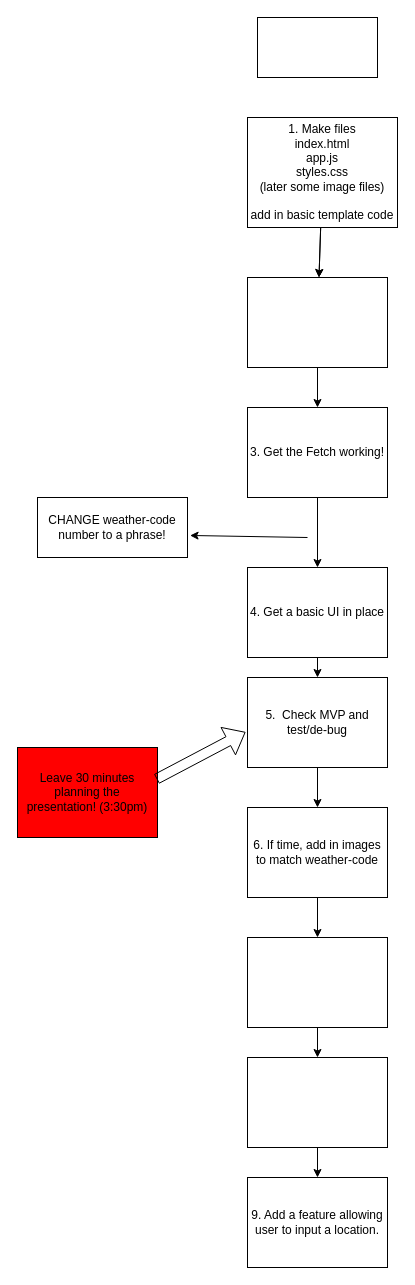
Some shapes in this 415 by 1285 pixel diagram are drawn without their labels. The shapes that lost their labels are listed below. From the top down, each one's centre as x and y in pixels, then its label:
At pixel 317 47: "Team 8 Hackathon - Weather App".
At pixel 317 322: "2. Get the API with ThunderCloud".
At pixel 317 982: "7. Add Unit-conversion".
At pixel 317 1102: "8. Add Weekly weather forecast".
